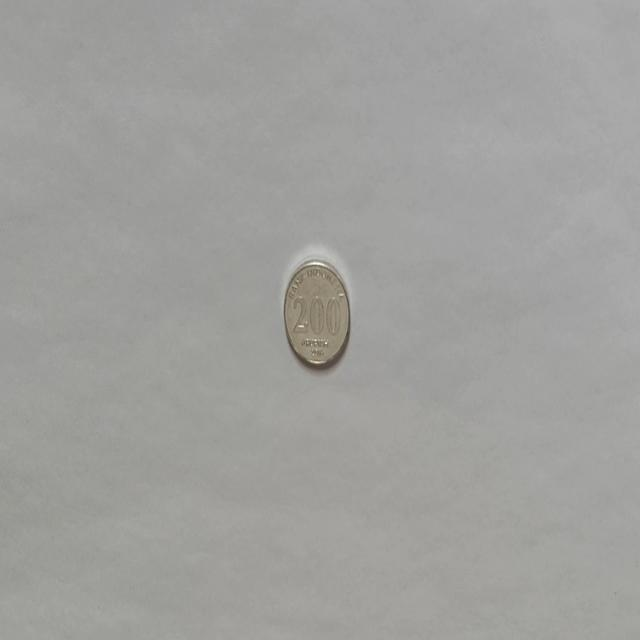dua ratus rupiah: (282, 256, 350, 368)
